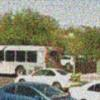buses: (0, 44, 59, 76)
